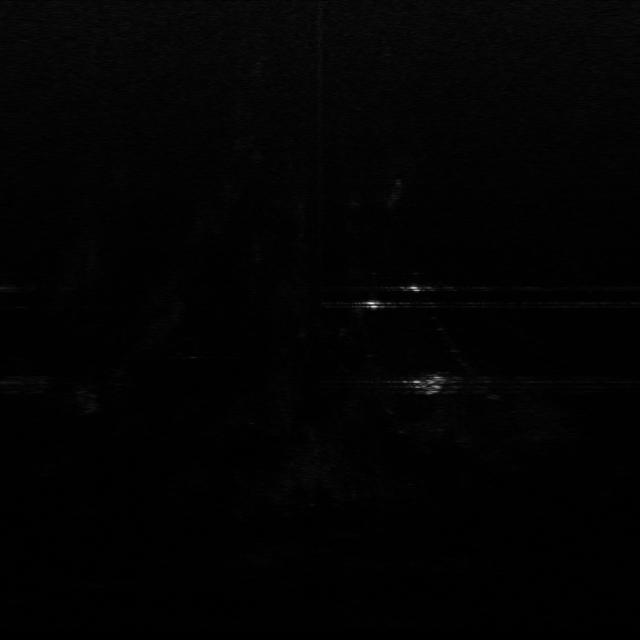rov: (410, 374, 454, 398)
